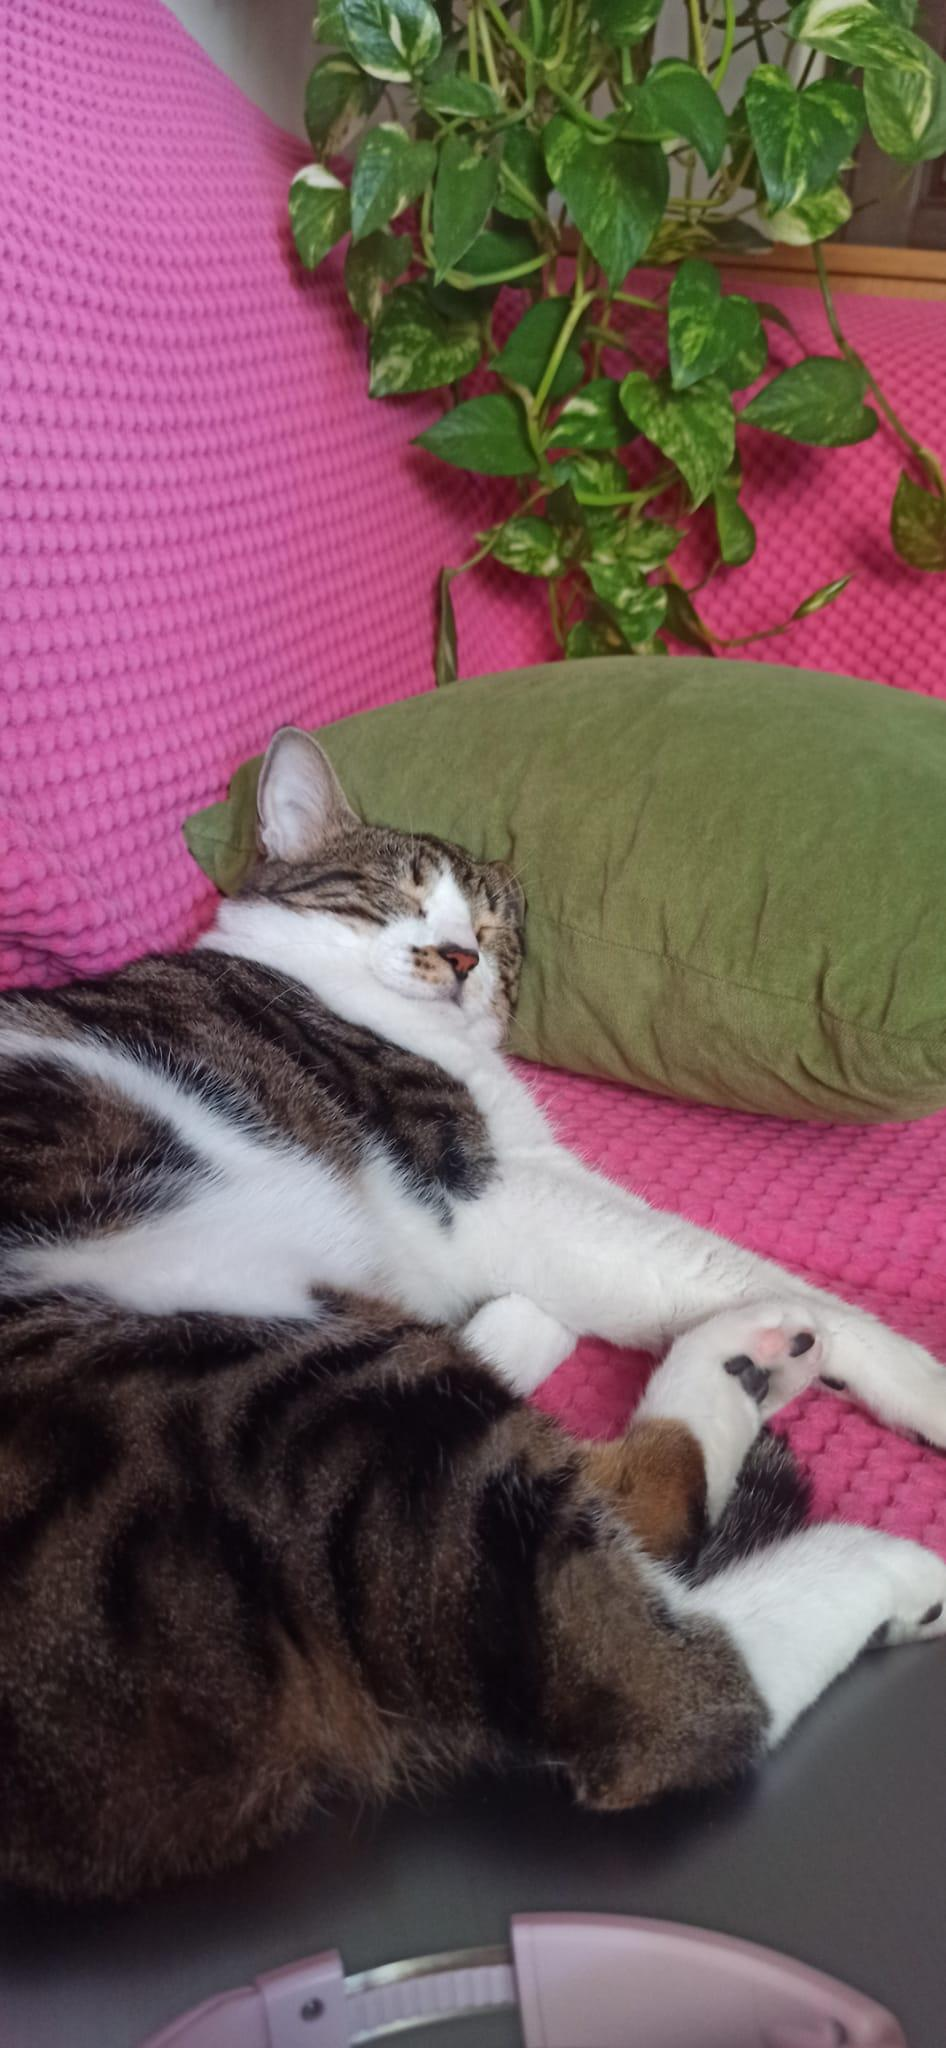kedo: (0, 738, 946, 1896)
